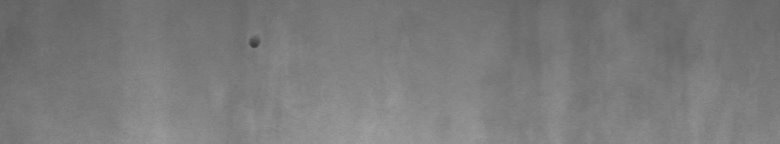fi: (246, 31, 263, 56)
